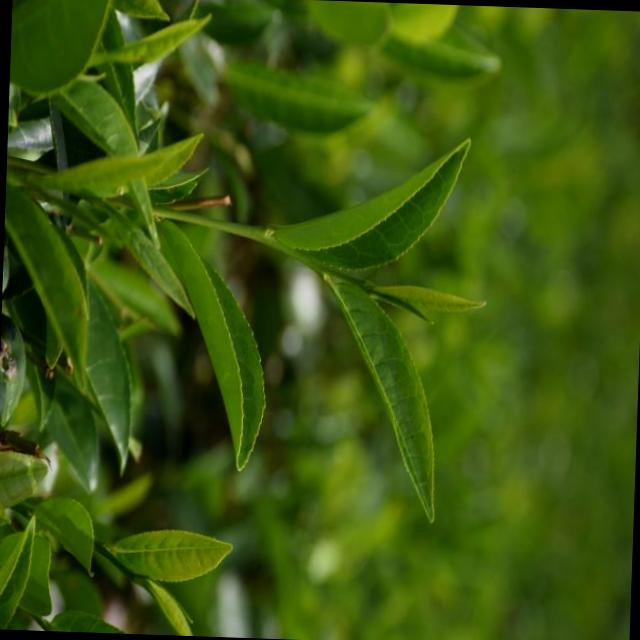Stem: (270, 238, 322, 273), (112, 559, 134, 579)
